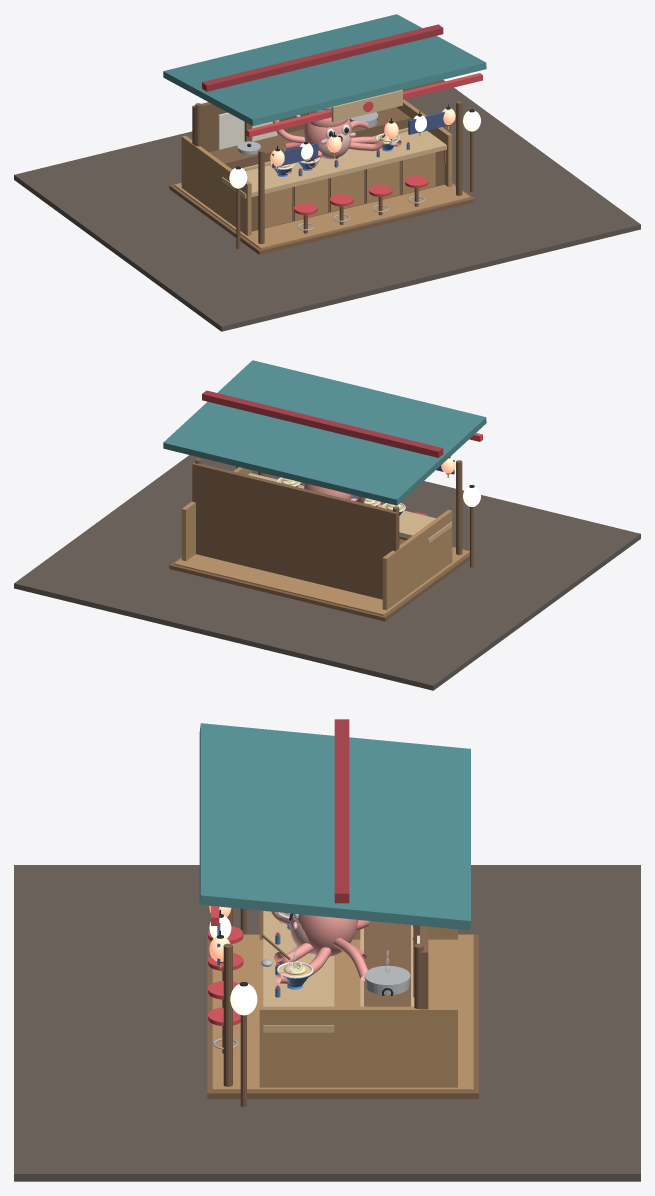
File: octopus-ramen-booth.glb
The picture shows the model from 3 angles, top to bottom: view 1: azimuth 30°, elevation 25°; view 2: azimuth 150°, elevation 25°; view 3: azimuth 270°, elevation 25°; orthographic projection. The views are drawn at different scales.
Visible parts, largest first — view 1: Ground, Roof, PlatformTop, CounterTop, SideL, RoofRidge, CookCounter, Platform, RoofTrimF, BackWall, SignBoard, CounterBase (+10 smaller); view 2: Ground, Roof, BackWall, SideL, PlatformTop, RoofRidge, Platform, CounterTop, SideR, Post_-3.3_-1.9; view 3: Ground, Roof, SideR, PlatformTop, CounterTop, Platform, RoofRidge, CookCounter, OctoBody, Post_3.3_-1.9, PotRim, BackWall (+1 smaller).
Boxes of the visible parts, x1,y1,x2,y2 form: Ground: (14,80,640,331); Roof: (163,14,486,125); PlatformTop: (174,183,470,249); CounterTop: (222,130,446,198); SideL: (181,135,251,235); RoofRidge: (202,24,443,91); CookCounter: (209,107,411,169); Platform: (169,182,474,254); RoofTrimF: (246,73,482,137); BackWall: (192,102,307,152); SignBoard: (331,90,402,122); CounterBase: (251,150,444,231); Ground: (14,455,640,690); Roof: (163,360,486,505); BackWall: (192,462,398,599); SideL: (382,509,452,610); PlatformTop: (174,547,469,615); RoofRidge: (202,390,443,457); Platform: (169,546,474,621); CounterTop: (248,473,451,543); SideR: (181,467,251,561); Post_-3.3_-1.9: (456,460,462,554); Ground: (14,865,640,1181); Roof: (199,723,470,930); SideR: (259,1006,457,1087); PlatformTop: (212,934,473,1091); CounterTop: (263,911,334,1032); Platform: (207,934,478,1098); RoofRidge: (334,719,349,903); CookCounter: (364,921,410,1006); OctoBody: (298,914,357,956); Post_3.3_-1.9: (223,943,232,1086); PotRim: (364,965,410,987); BackWall: (420,926,428,1009).
Size of the model in its own units: 14 by 4.66 by 12.
